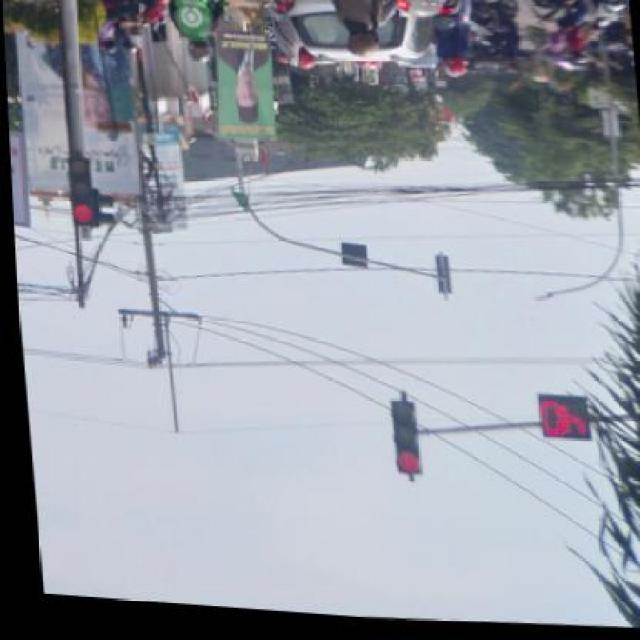red_light: (389, 389, 419, 477), (67, 154, 98, 224)
